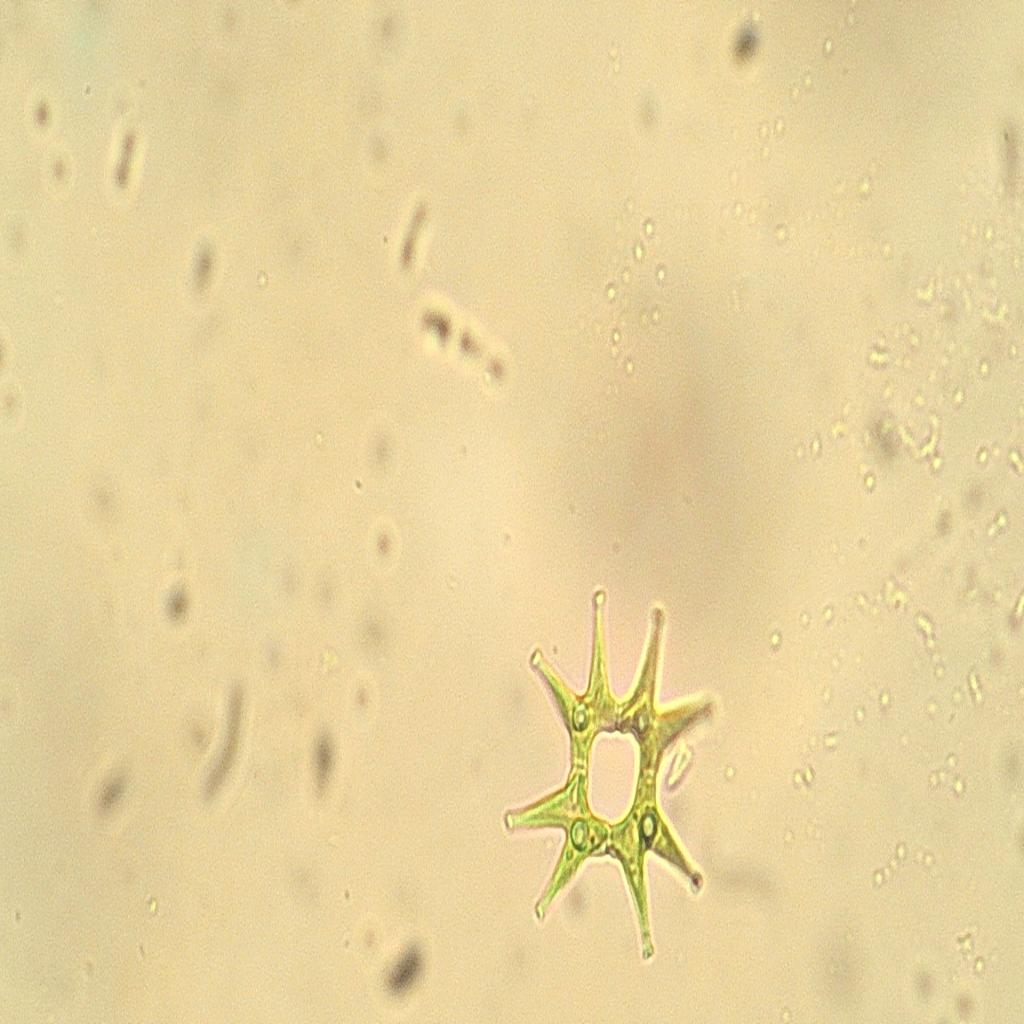Pediastrum_75O: (501, 572, 723, 980)
